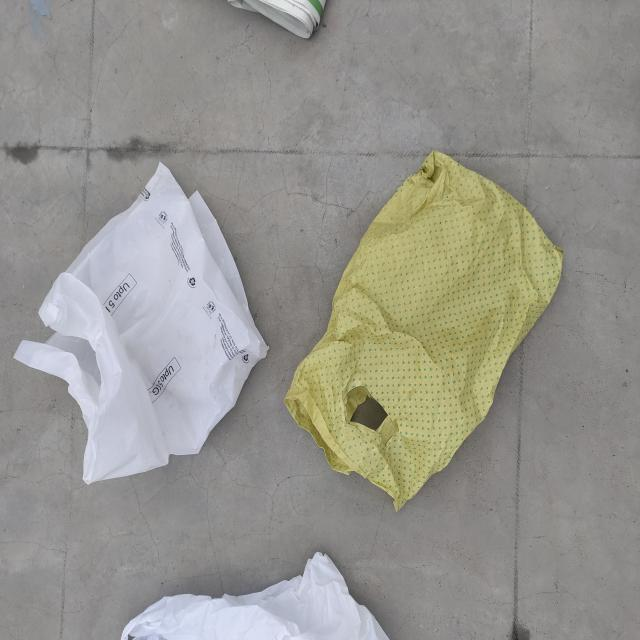paper: (217, 0, 362, 53)
plastic: (286, 152, 571, 515), (3, 158, 275, 505), (110, 534, 460, 640)
